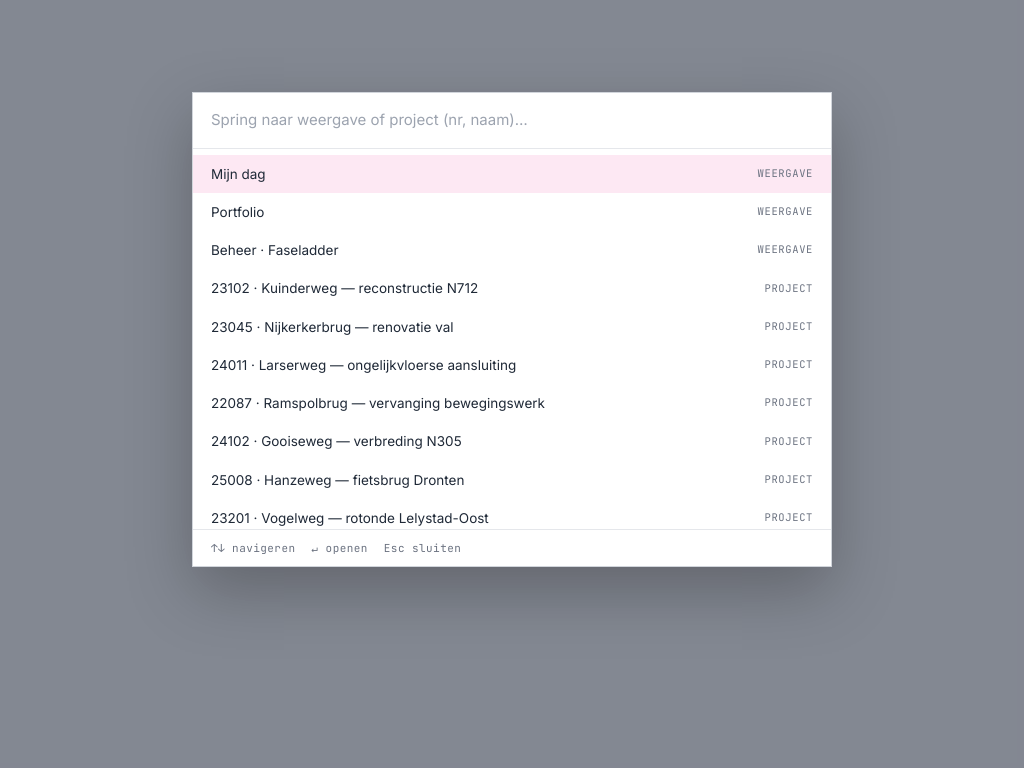
Test: InfraCommandPalette › typing filters the list, showing "Niets gevonden" when nothing matches
The image size is (1024, 768).
Type "zzz-nonexistent" into the field with placeholder "Spring naar weergave of project (nr, naam)…" at (512, 121), box [193, 93, 831, 149]
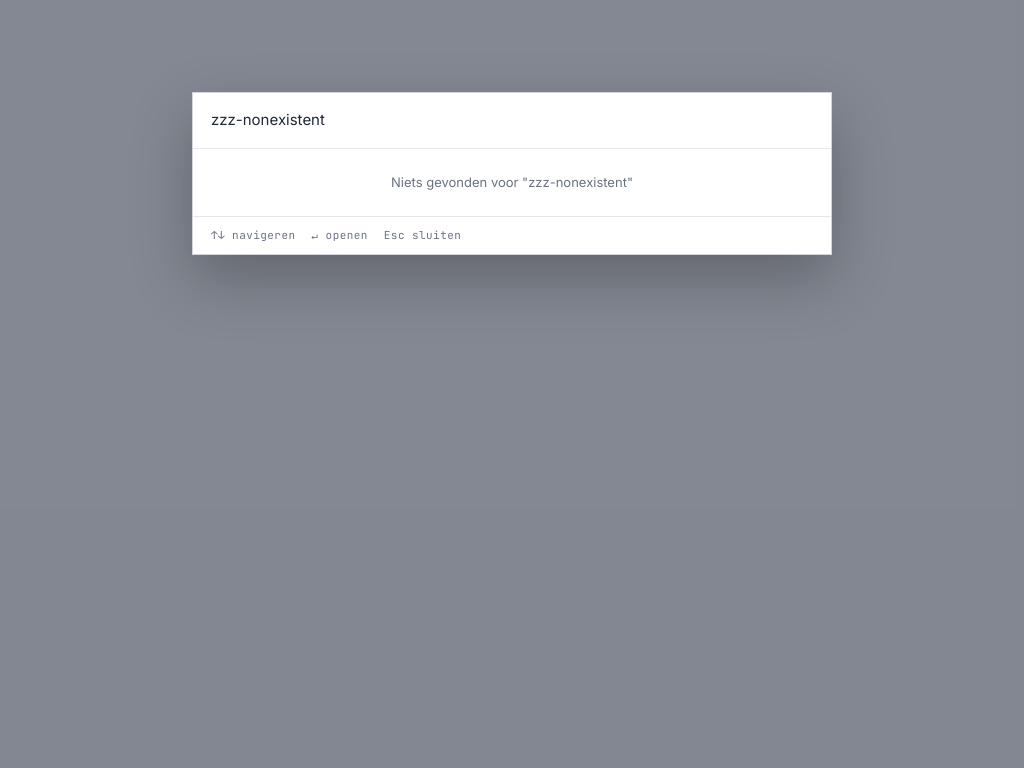
Expected: the text "Niets gevonden voor \"zzz-nonexistent\"" is shown, [391, 174, 633, 190]
